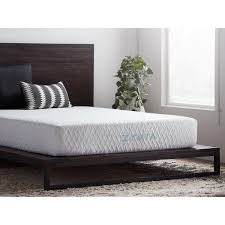bed-matress: (1, 104, 201, 154)
